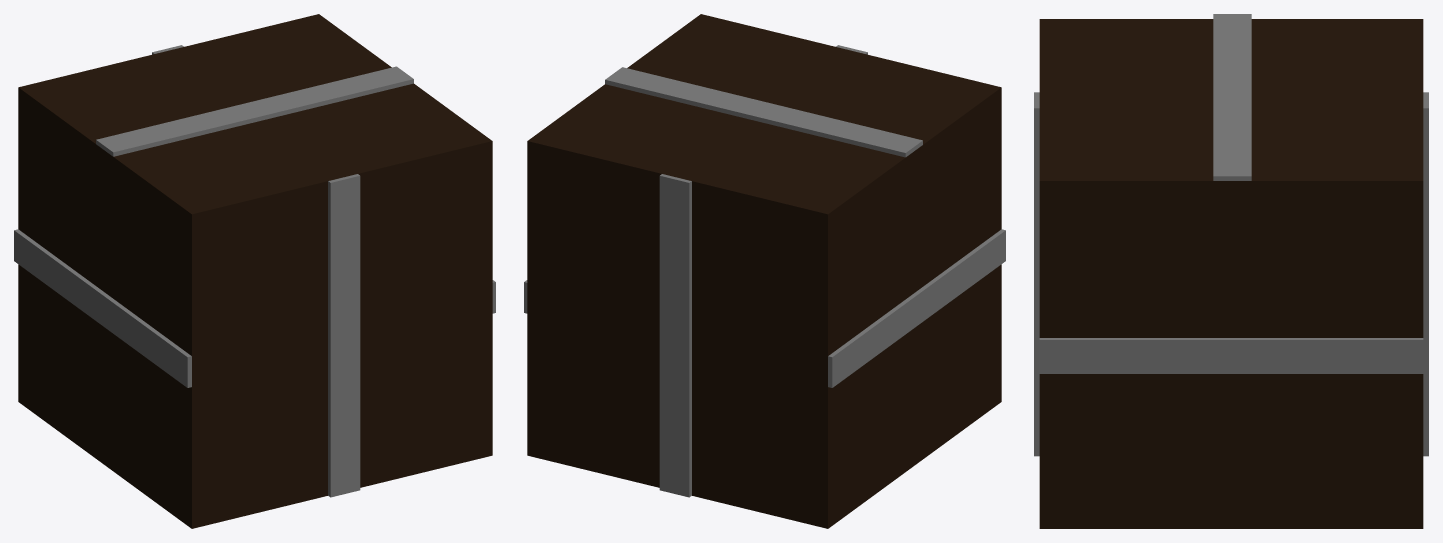
3 renders of one model, left to right at view 1: azimuth 30°, elevation 25°; view 2: azimuth 150°, elevation 25°; view 3: azimuth 270°, elevation 25°, orthographic. The views are drawn at different scales.
Parts seen in each view (by area): view 1: Cube.001; view 2: Cube.001; view 3: Cube.001.
Boxes of the visible parts, left/top/right/bottom form: Cube.001: left=14, top=14, right=495, bottom=528; Cube.001: left=524, top=14, right=1005, bottom=528; Cube.001: left=1034, top=14, right=1428, bottom=528.
Bounding box in the file's own units: 205 × 203 × 206.
